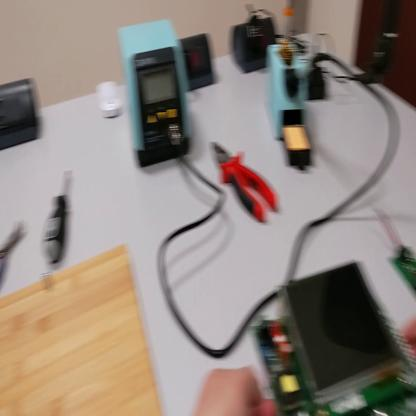hand: (195, 363, 277, 414), (402, 317, 415, 357)
high voltage board: (376, 209, 416, 298)
low voltage board: (244, 256, 416, 416)
pliers: (212, 134, 280, 227)
screwdriver-: (42, 170, 76, 263)
socket: (231, 12, 276, 78), (178, 30, 216, 96)
welder base: (266, 9, 316, 175)
welder station: (118, 15, 192, 168)
working area: (5, 245, 168, 415)
